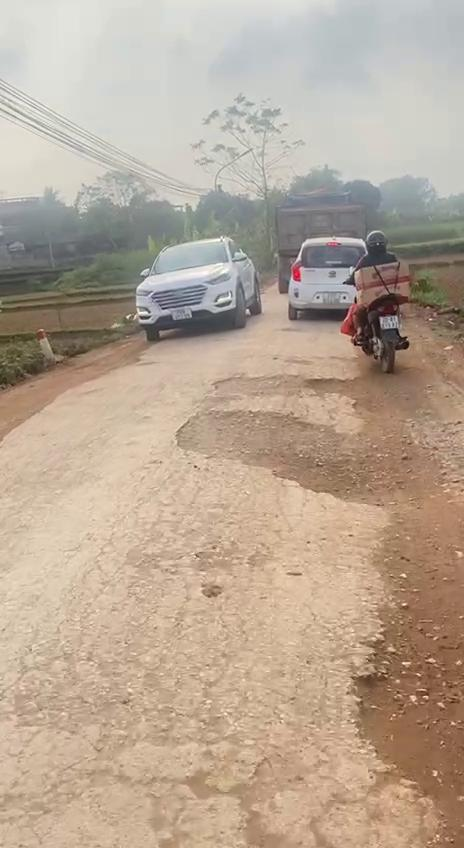pothole: (170, 408, 387, 512), (359, 614, 464, 816), (190, 754, 343, 848), (212, 368, 360, 404)
